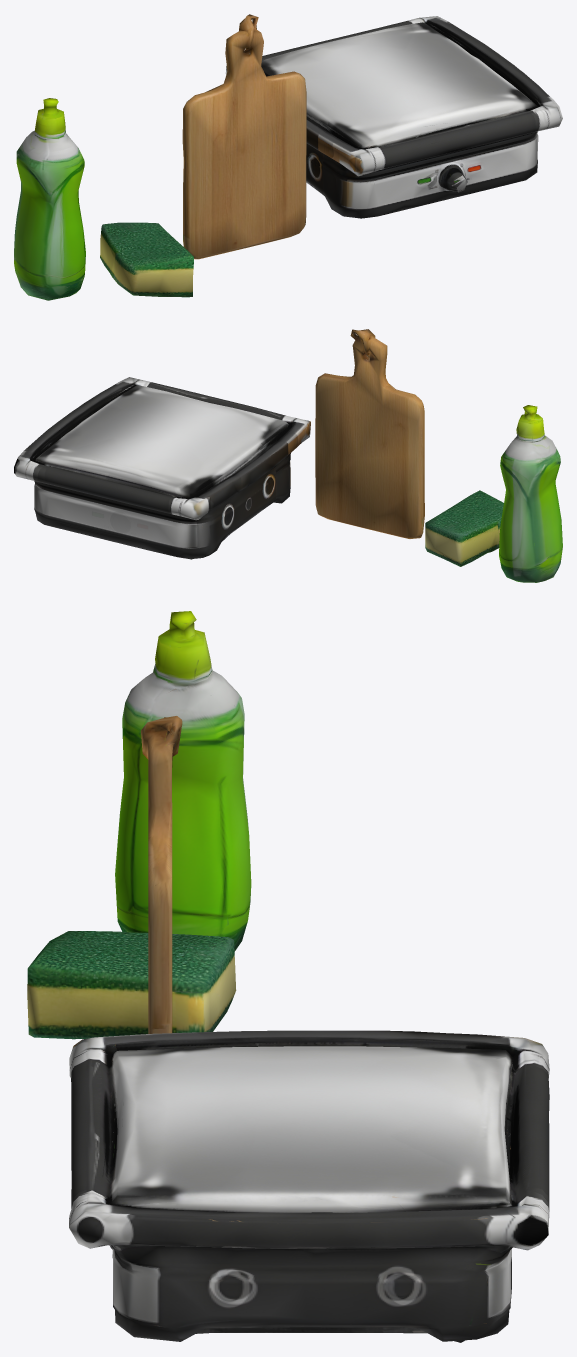
Rendered from mutfakobjeleri.fbx.
3 views of the same model, one above another, from view 1: azimuth 30°, elevation 25°; view 2: azimuth 150°, elevation 25°; view 3: azimuth 270°, elevation 25° (orthographic). The views are drawn at different scales.
Visible parts, largest first — view 1: Mesh_0.027, Mesh_0.026, Mesh_0.024, Mesh_0.025; view 2: Mesh_0.027, Mesh_0.026, Mesh_0.024, Mesh_0.025; view 3: Mesh_0.027, Mesh_0.024, Mesh_0.025, Mesh_0.026.
Boxes of the visible parts, x1,y1,x2,y2 form: Mesh_0.027: (225,16,562,218); Mesh_0.026: (182,14,306,259); Mesh_0.024: (14,98,85,300); Mesh_0.025: (100,222,193,297); Mesh_0.027: (14,377,310,559); Mesh_0.026: (315,329,424,538); Mesh_0.024: (499,405,562,582); Mesh_0.025: (425,490,503,566); Mesh_0.027: (69,1030,549,1342); Mesh_0.024: (115,611,251,951); Mesh_0.025: (27,931,236,1039); Mesh_0.026: (141,716,182,1033).
Bounding box in the file's own units: 191 × 80.25 × 94.02.
Materials: 1 (1 with a texture image).
